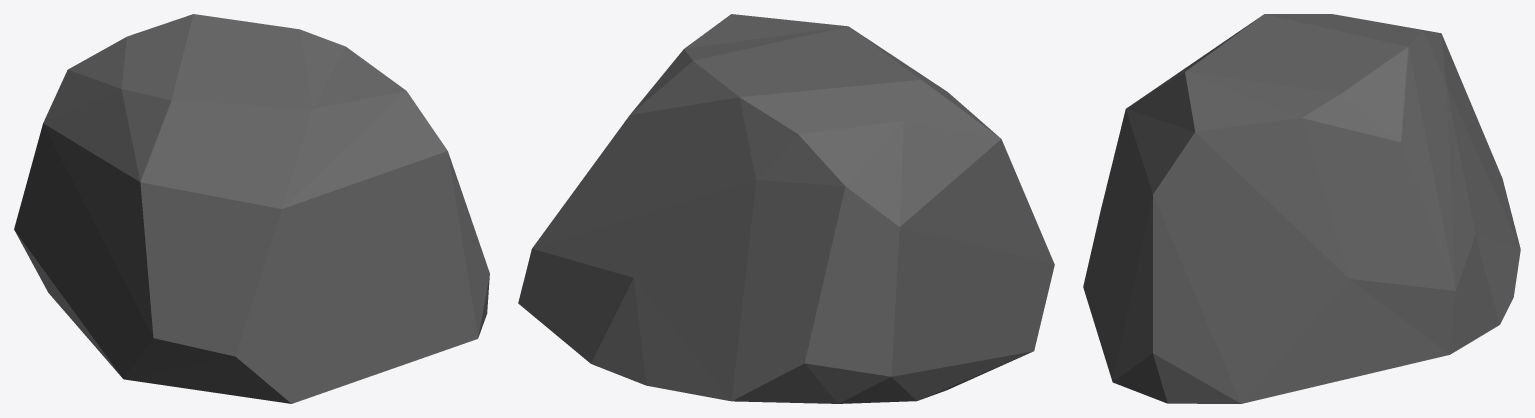
File: Stone_1.fbx
3 renders of one model, left to right at view 1: azimuth 30°, elevation 25°; view 2: azimuth 150°, elevation 25°; view 3: azimuth 270°, elevation 25°, orthographic. The views are drawn at different scales.
Visible parts, largest first — view 1: Stone_1; view 2: Stone_1; view 3: Stone_1.
Part boxes in pixels (x1,y1,x2,y2): Stone_1: (14,14,489,403); Stone_1: (518,14,1054,403); Stone_1: (1083,14,1520,403).
Bounding box in the file's own units: 0.6679 × 0.6862 × 0.4671.
